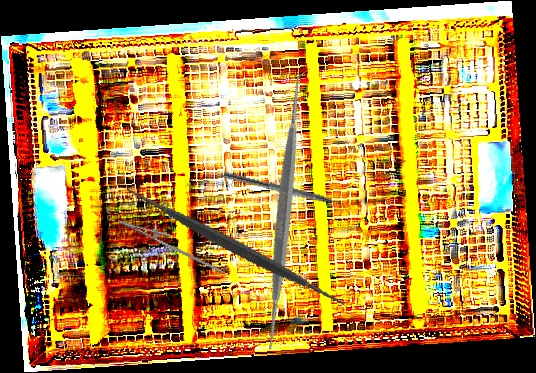Chopper: (220, 171, 353, 216)
Needle Holder: (112, 211, 234, 275)
Spatula Surgical: (140, 67, 429, 358), (123, 136, 348, 357)
